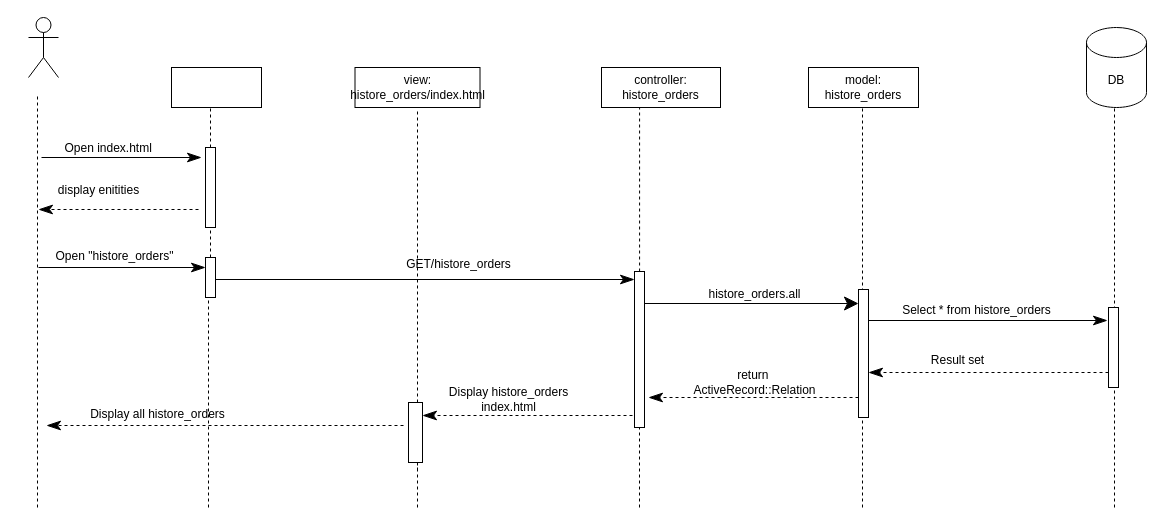
This 1164x526 diagram has some shape labels left out. The centre of each missing label's shape, as x and y in pixels:
view:home.html: (x=216, y=87)
Работник: (x=43, y=47)
